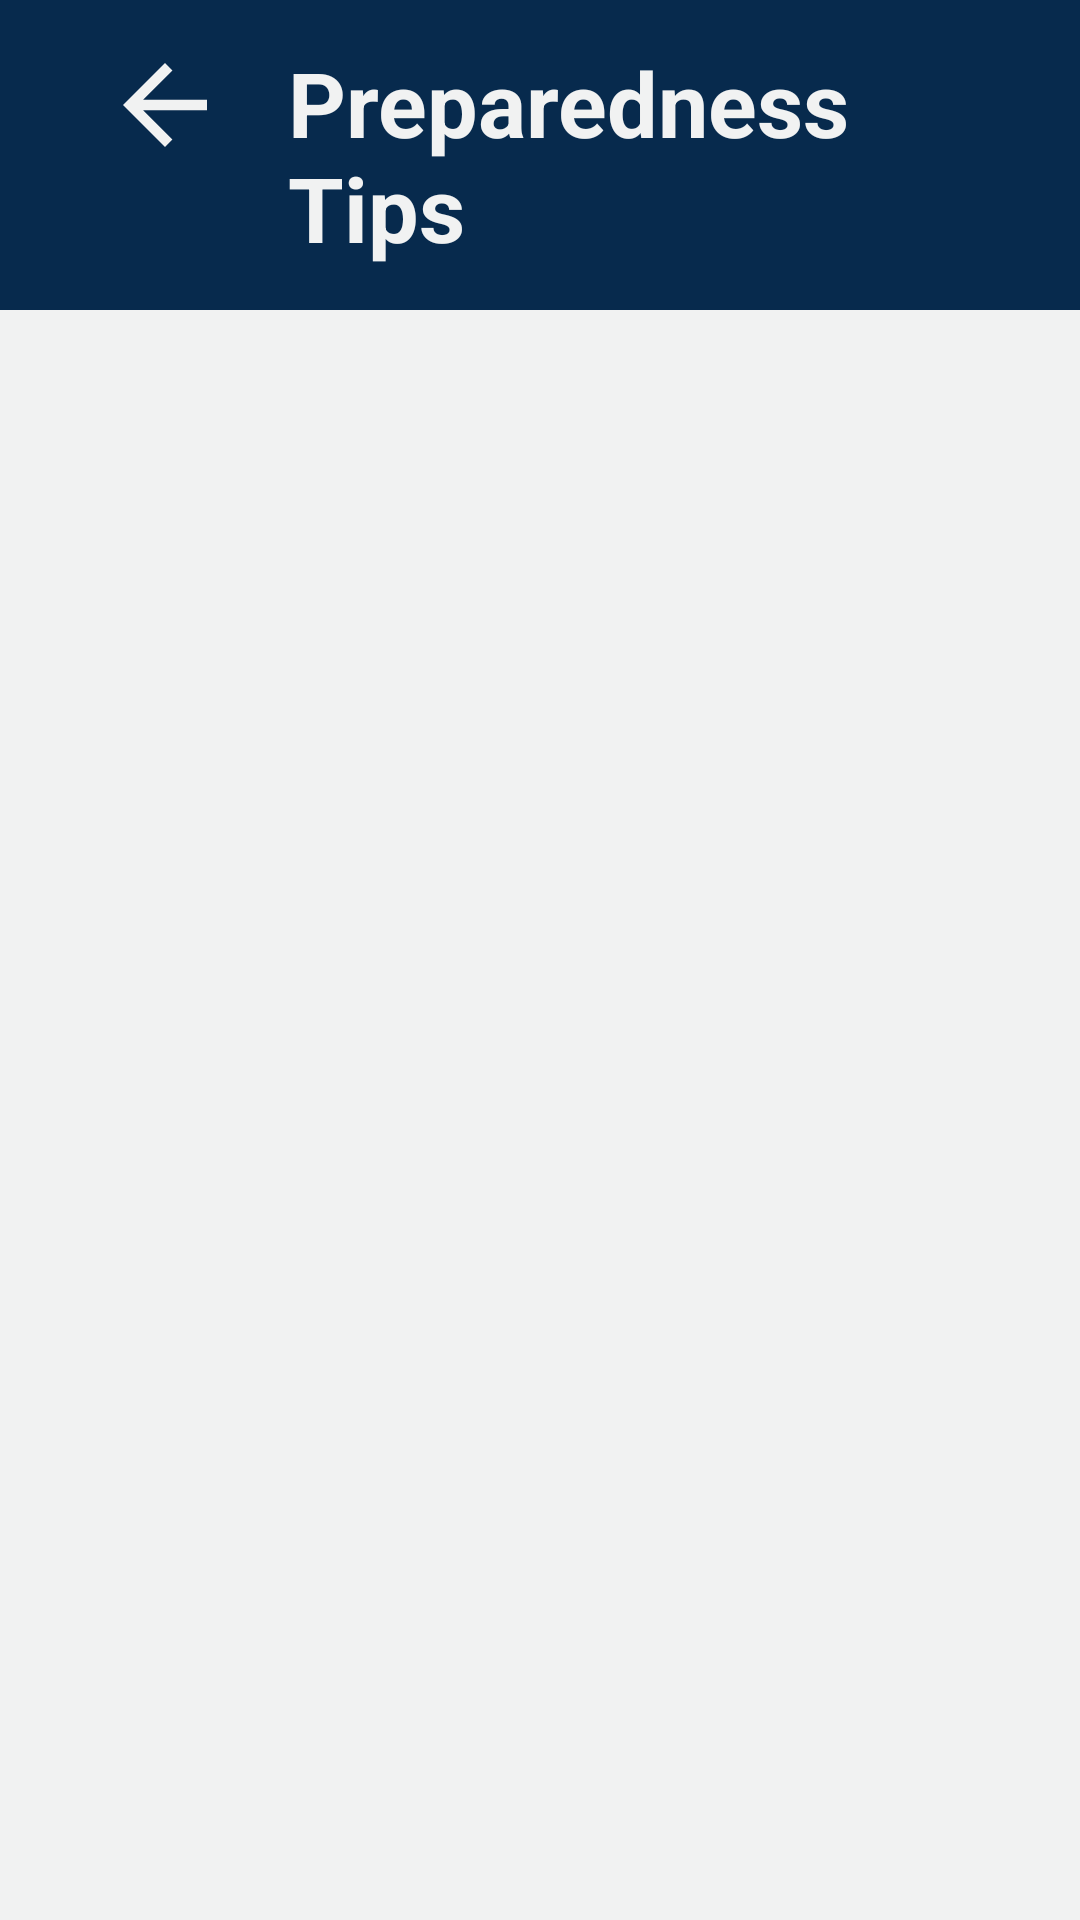

Named icons in this screenshot (1080px×1920px) and their bounding boxes, (x1, y1, x2, y2):
back: (123, 63, 207, 147)
